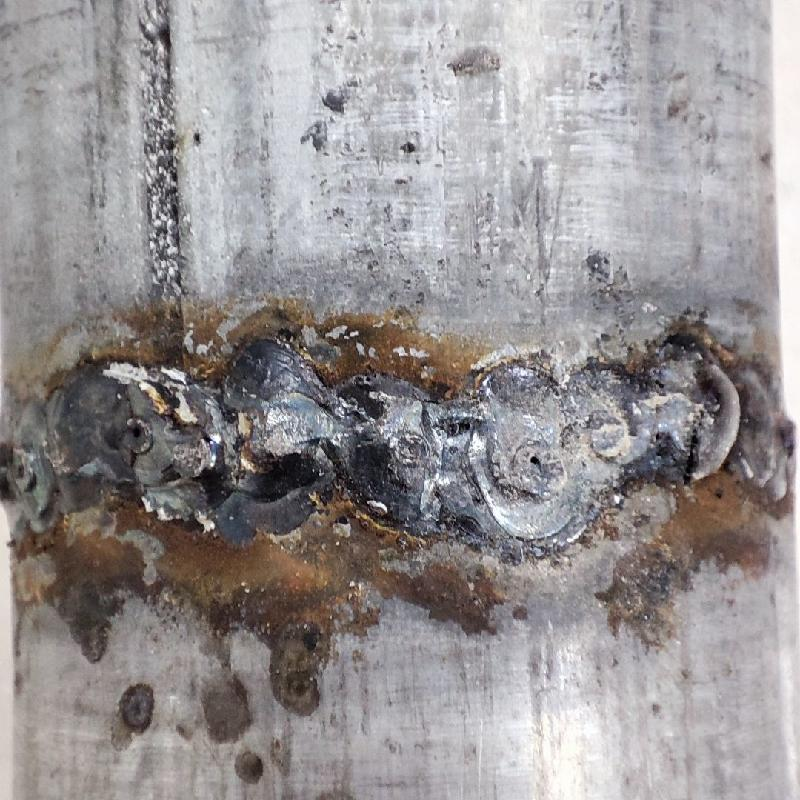Not_fully_soldered: (453, 358, 648, 545)
Surface_pores: (513, 444, 565, 500), (119, 411, 168, 460)
wrong_size: (659, 324, 799, 498)
